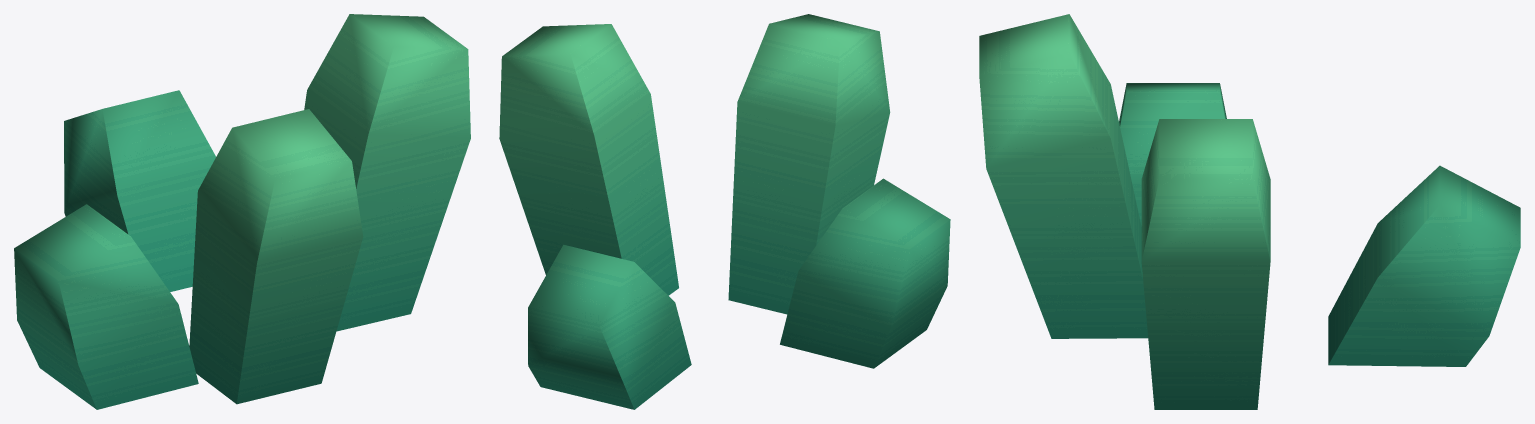
The model's file is grass.glb.
3 views of the same model, side by side, from view 1: azimuth 30°, elevation 25°; view 2: azimuth 150°, elevation 25°; view 3: azimuth 270°, elevation 25° (orthographic). The views are drawn at different scales.
Visible parts, largest first — view 1: grass; view 2: grass; view 3: grass.
Boxes of the visible parts, x1=… form: grass: x1=14, y1=14, x2=470, y2=409; grass: x1=499, y1=14, x2=950, y2=409; grass: x1=979, y1=14, x2=1520, y2=409.
Bounding box in the file's own units: 0.5187 × 0.3139 × 0.5437.
1 material, 1 textured.
